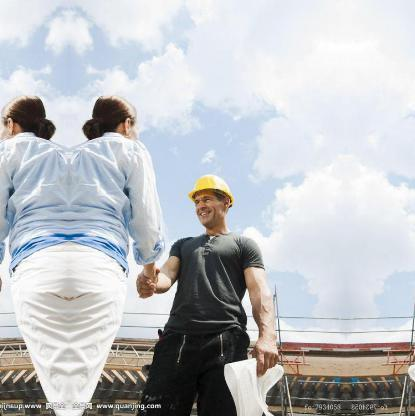helmet: (185, 171, 237, 207)
